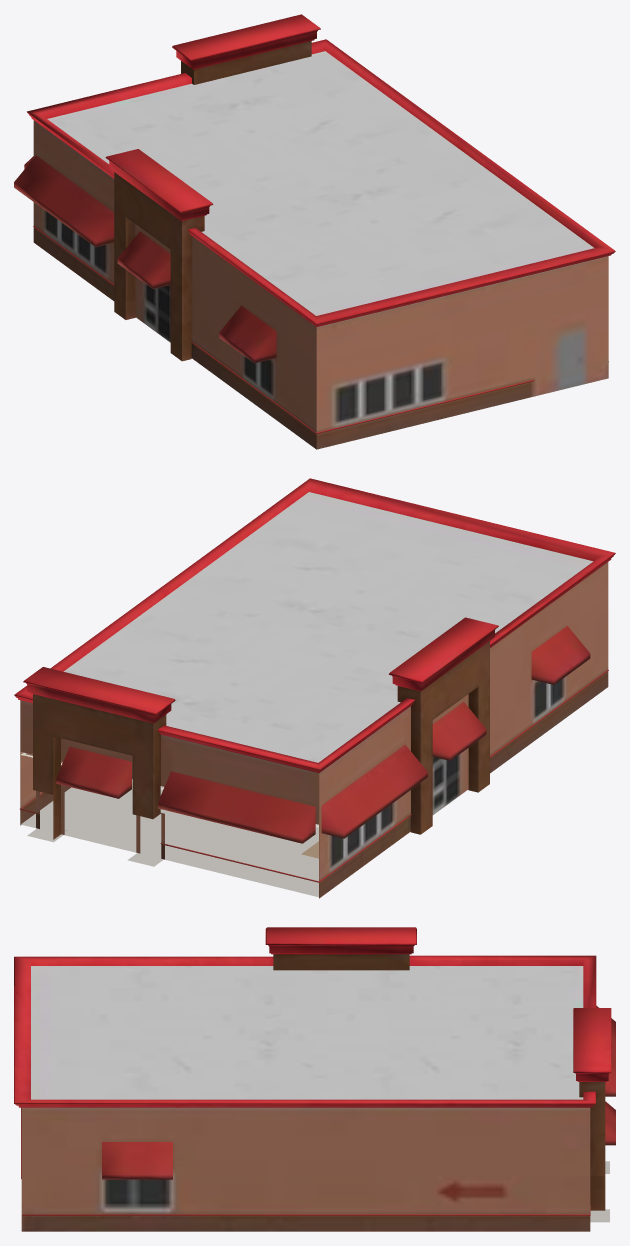
Rendered from burger-joint.zfix-v14.lod1.glb.
3 renders of one model, top to bottom at view 1: azimuth 30°, elevation 25°; view 2: azimuth 150°, elevation 25°; view 3: azimuth 270°, elevation 25°, orthographic. The views are drawn at different scales.
Visible parts, largest first — view 1: Object_2; view 2: Object_2, Walkable floors and stairs; view 3: Object_2.
Boxes of the visible parts, x1,y1,x2,y2 form: Object_2: (14, 14, 615, 449); Object_2: (14, 478, 615, 898); Walkable floors and stairs: (21, 779, 318, 897); Object_2: (14, 927, 615, 1231).
Bounding box in the file's own units: 18.01 × 7.88 × 27.76.
Materials: 4 (1 with a texture image).
